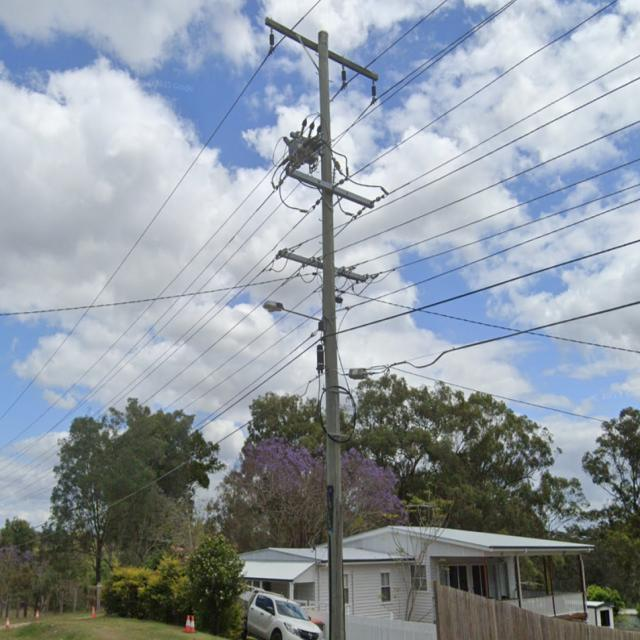HV-switch: (282, 119, 327, 174)
HV-transmission: (265, 17, 379, 105), (272, 156, 388, 222)
LV link: (280, 253, 328, 287), (314, 263, 358, 293), (352, 268, 396, 297), (262, 242, 304, 272)
crossarm: (264, 16, 378, 82), (286, 168, 375, 208), (278, 248, 367, 283)
streetlight: (262, 300, 324, 323)
timber-pole: (316, 30, 345, 640)
